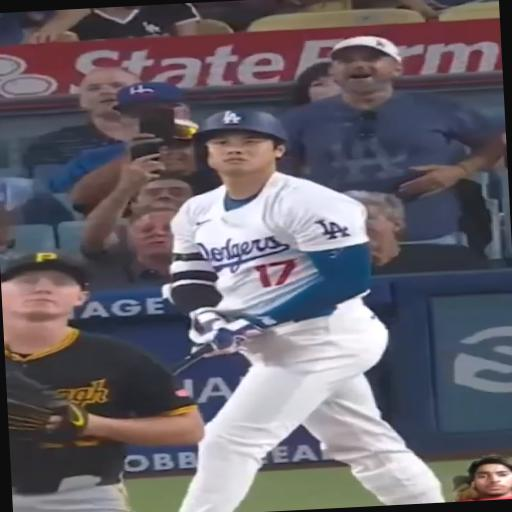bat: (173, 345, 214, 375)
